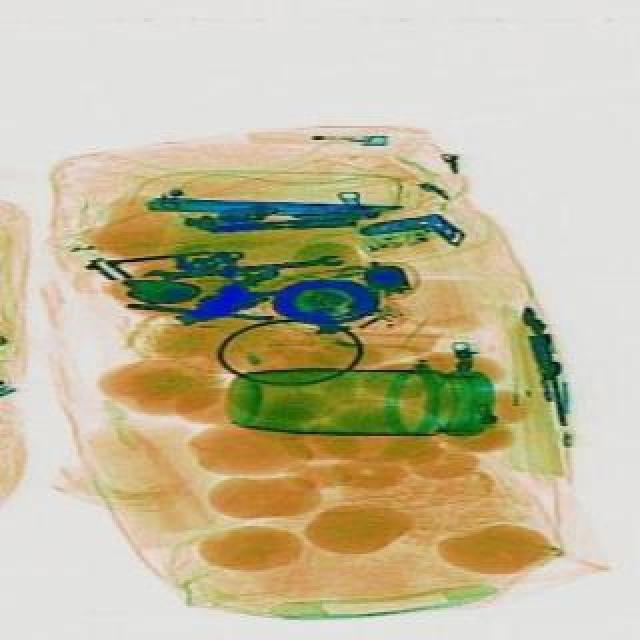scissors: (138, 252, 340, 284)
